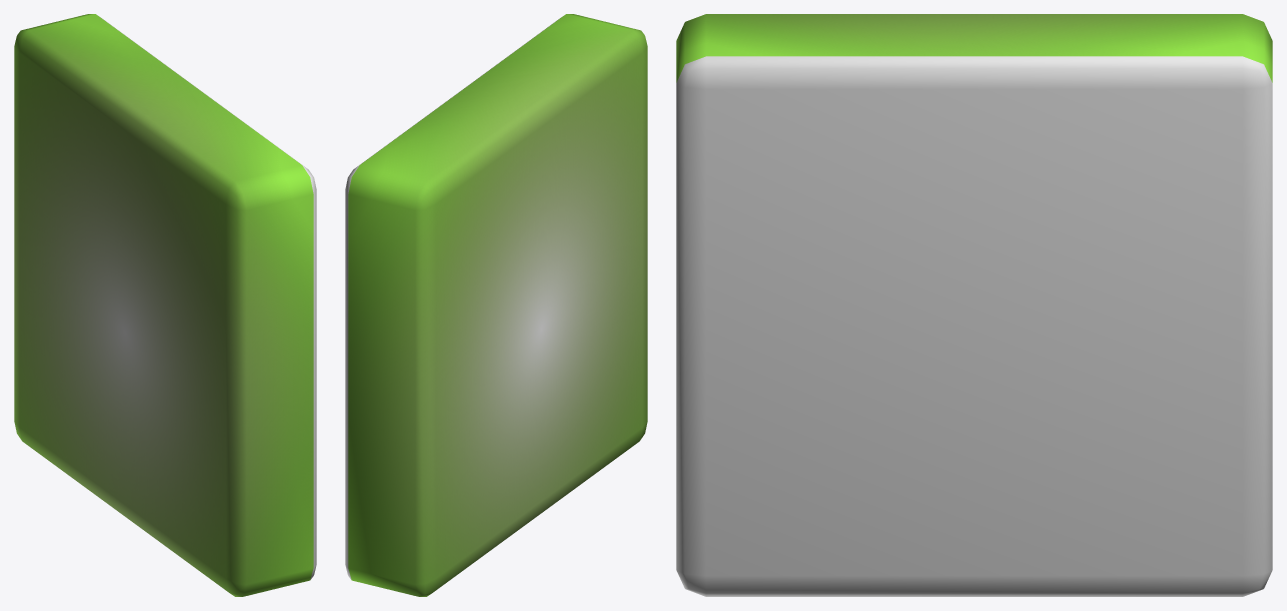
Rendered from right_door_button_on.glb.
The picture shows the model from 3 angles, left to right: view 1: azimuth 30°, elevation 25°; view 2: azimuth 150°, elevation 25°; view 3: azimuth 270°, elevation 25°; orthographic projection. The views are drawn at different scales.
Visible parts, largest first — view 1: RightDoorButtonOn; view 2: RightDoorButtonOn; view 3: RightDoorButtonOn.
Part boxes in pixels (x1=…): RightDoorButtonOn: x1=14, y1=14, x2=316, y2=596; RightDoorButtonOn: x1=345, y1=14, x2=647, y2=596; RightDoorButtonOn: x1=676, y1=14, x2=1272, y2=596.
Bounding box in the file's own units: 0.0721 × 0.3354 × 0.3354.
2 materials, 1 textured.
